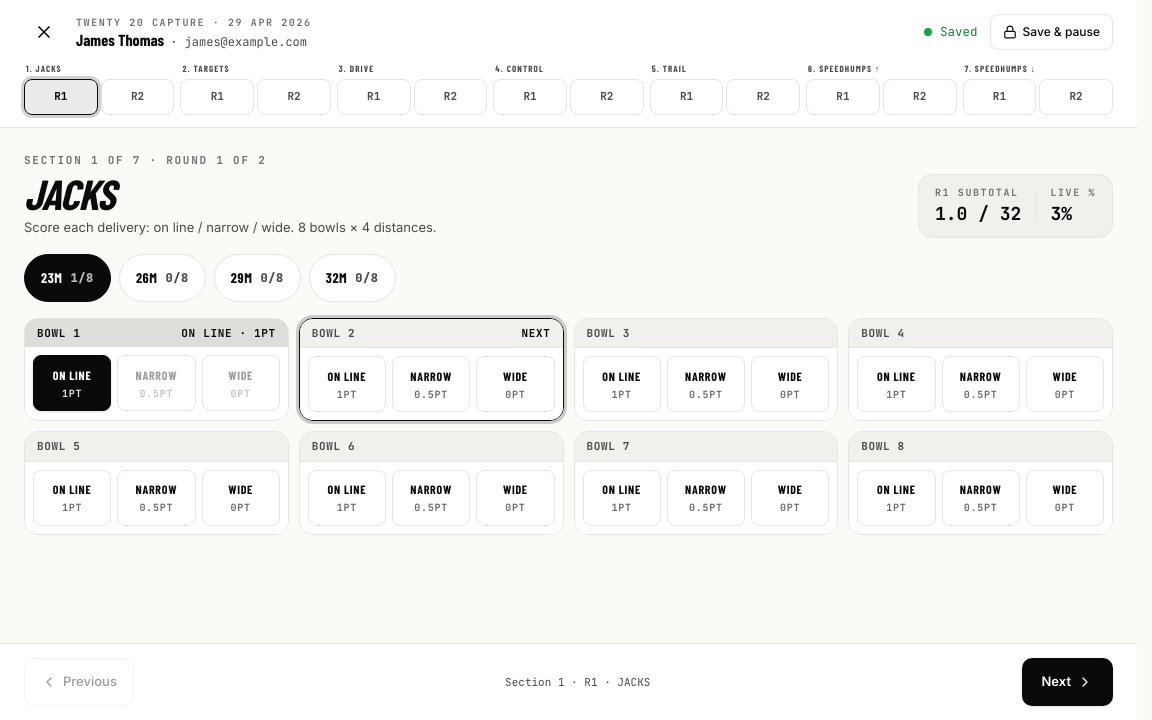
it: <CaptureWizard /> — discard-with-confirm (12.5-3) › 'Keep editing' closes the dialog without discarding or routing
Click the button named "Discard this assessment". click: (44, 32)
box: [24,12,64,52]
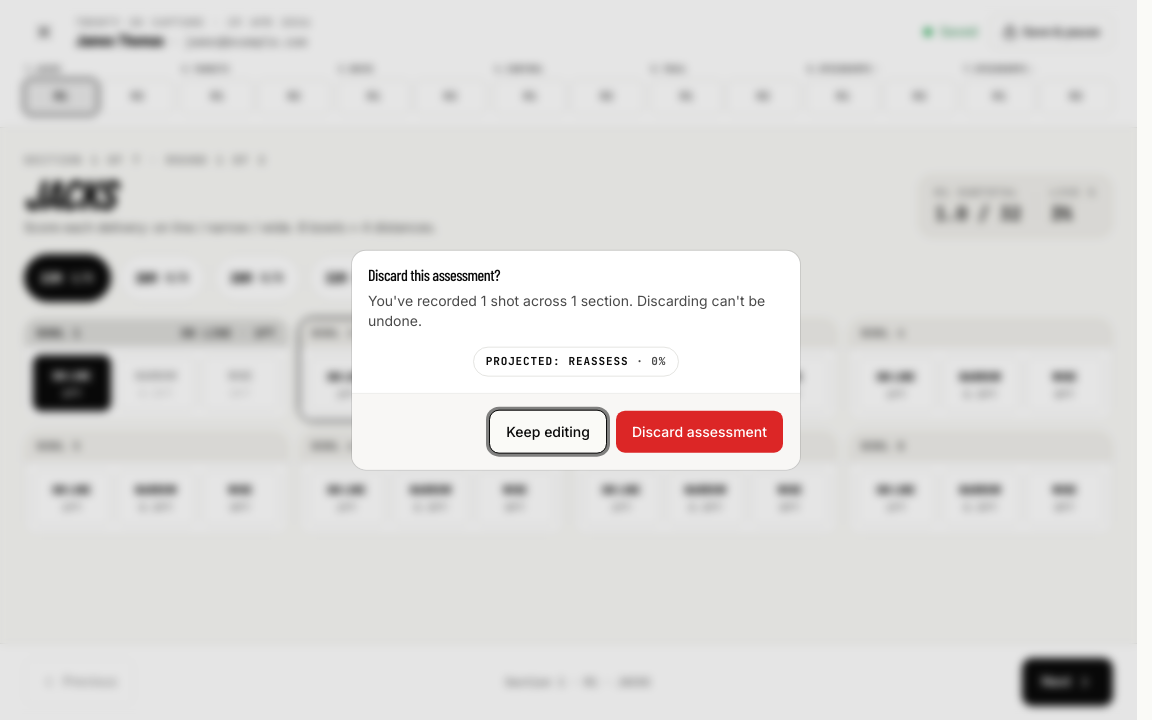
Click the button "Keep editing". click: (548, 431)
box: [489,409,607,453]
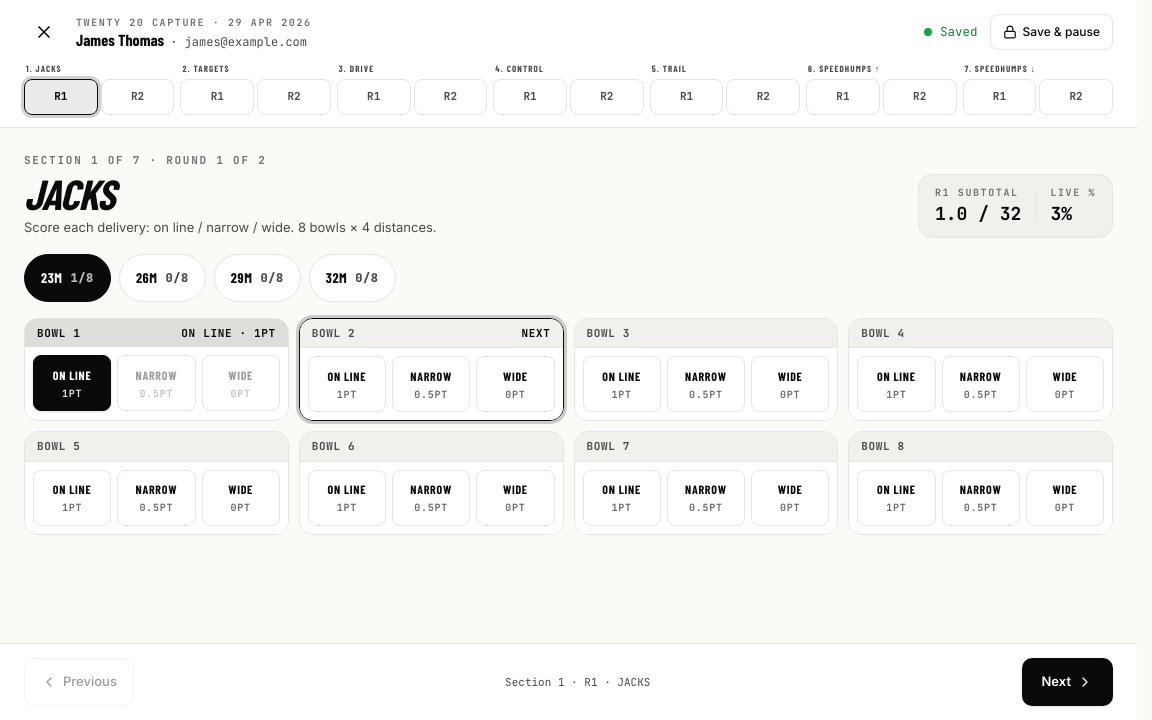
expect the heading "Discard this assessment?" is gone: met
